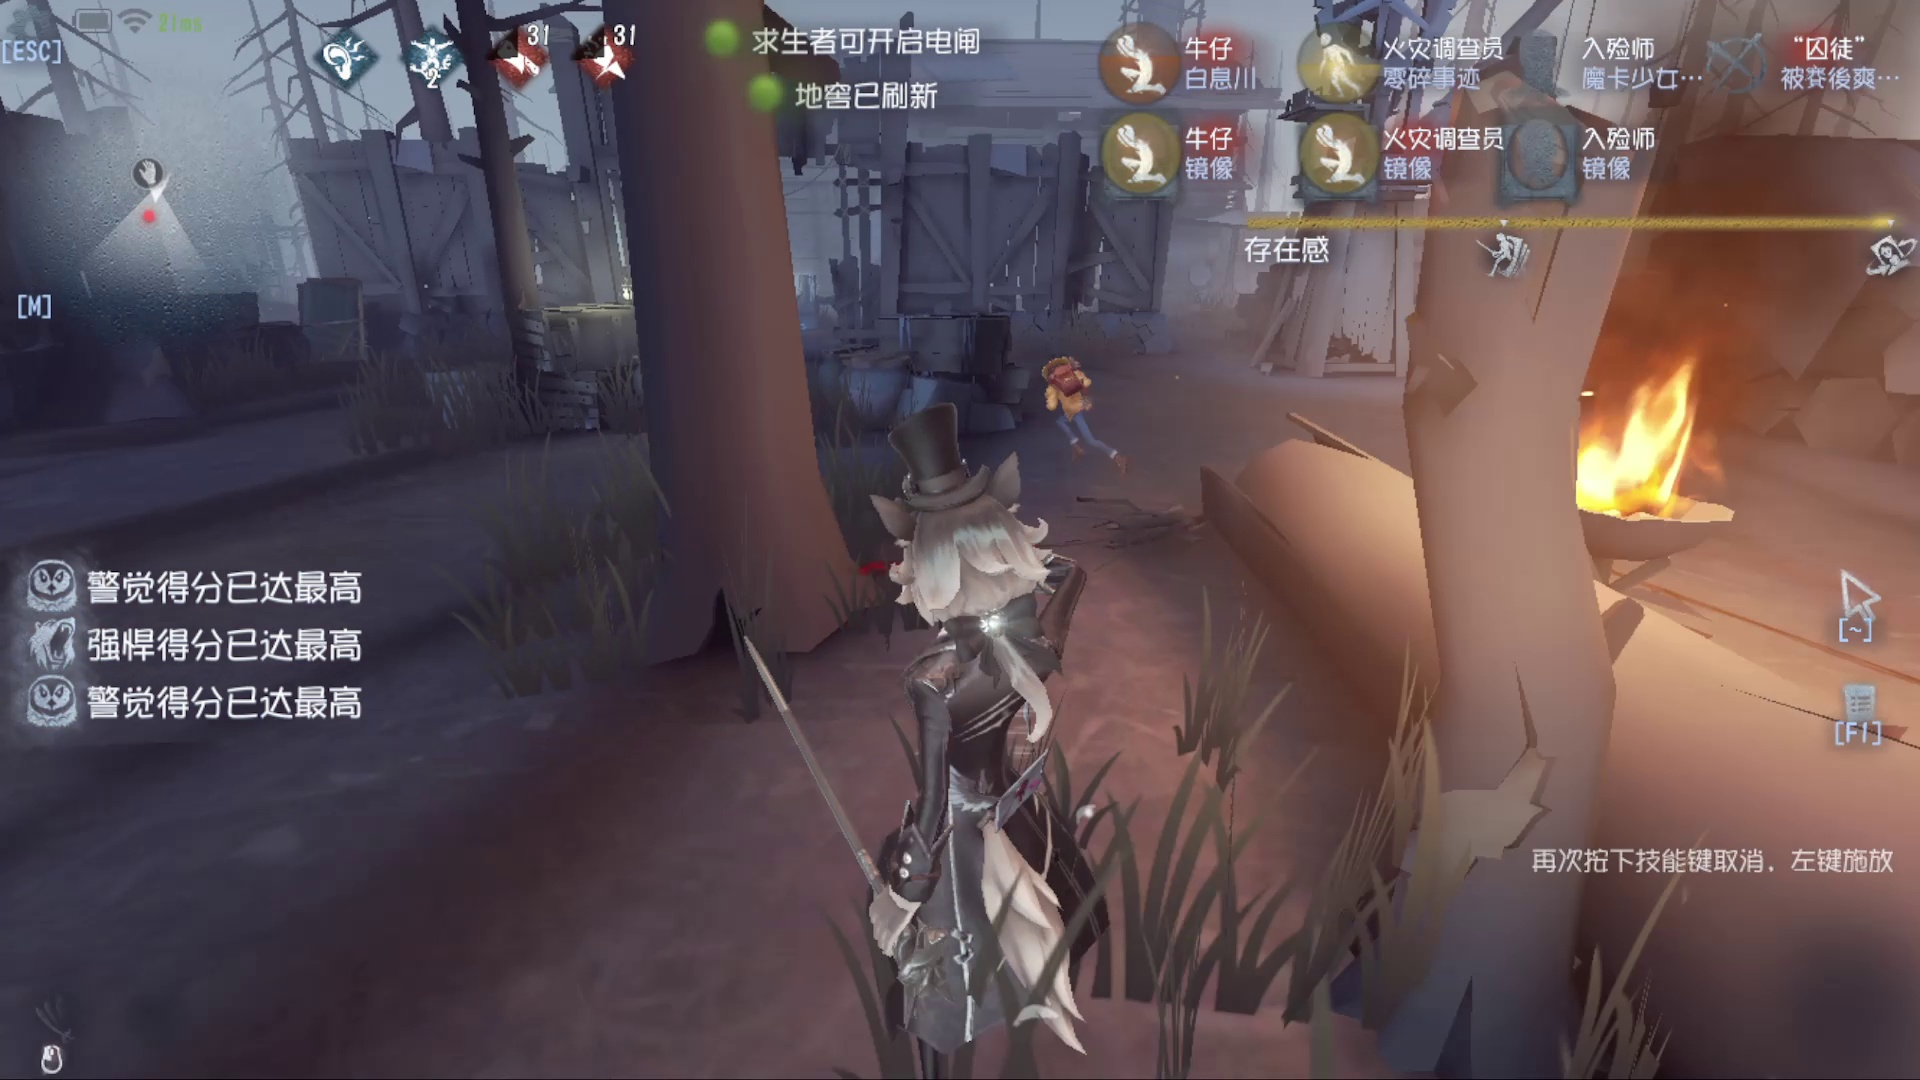木板: (272, 260, 382, 385)
求生者: (1025, 338, 1142, 506)
